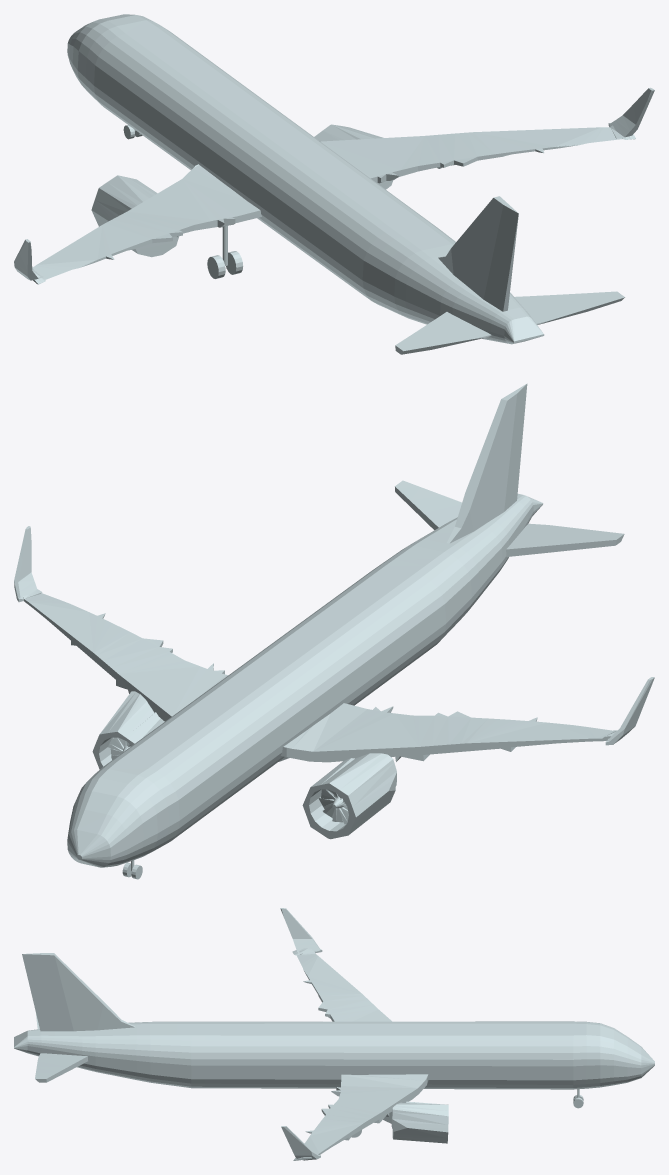
3 views of the same model, one above another, from view 1: azimuth 30°, elevation 25°; view 2: azimuth 150°, elevation 25°; view 3: azimuth 270°, elevation 25° (orthographic). The views are drawn at different scales.
Visible parts, largest first — view 1: Aircraft visual hull, Landing gear; view 2: Aircraft visual hull; view 3: Aircraft visual hull.
Boxes of the visible parts, bbox=[...] form: Aircraft visual hull: bbox=[14, 14, 654, 354]; Landing gear: bbox=[123, 125, 243, 278]; Aircraft visual hull: bbox=[14, 383, 654, 867]; Aircraft visual hull: bbox=[14, 908, 654, 1160].
Size of the model in its own units: 35.94 by 11.91 by 44.61.
